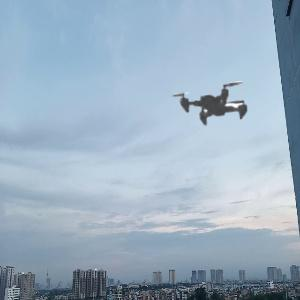drone: (151, 46, 283, 178)
